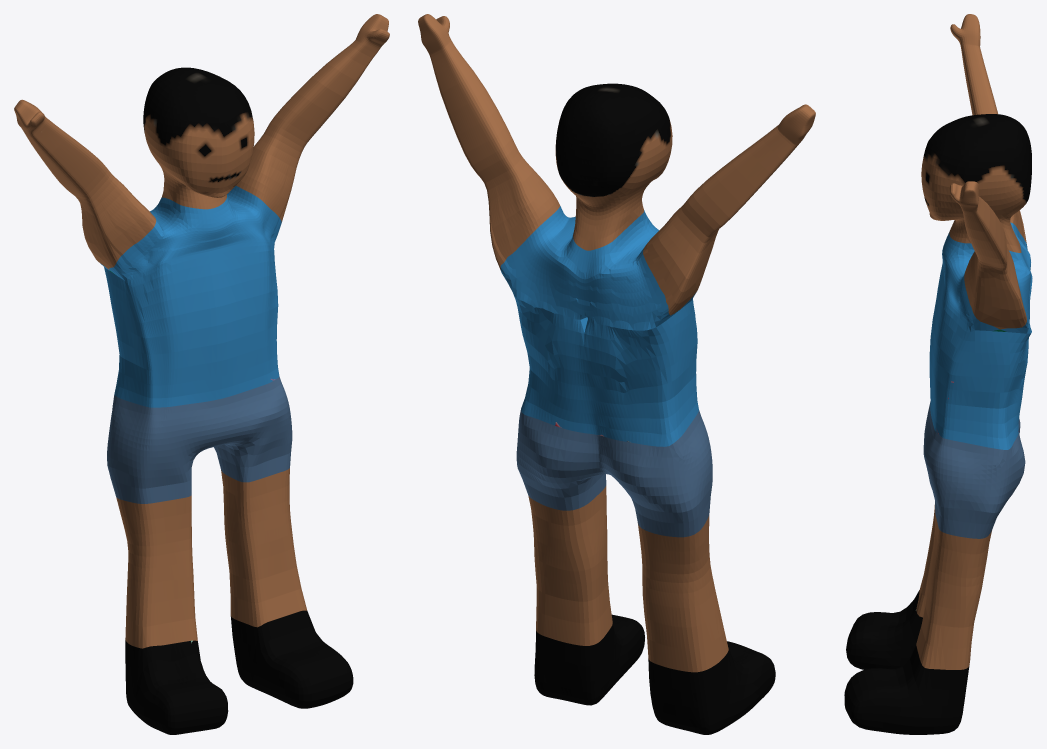
File: Espectador.obj
3 views of the same model, side by side, from view 1: azimuth 30°, elevation 25°; view 2: azimuth 150°, elevation 25°; view 3: azimuth 270°, elevation 25° (orthographic). The views are drawn at different scales.
Visible parts, largest first — view 1: Espectador; view 2: Espectador; view 3: Espectador.
Part boxes in pixels (<box>): Espectador: <box>14,14,389,734</box>; Espectador: <box>418,14,815,734</box>; Espectador: <box>844,14,1032,734</box>.
Bounding box in the file's own units: 1.13 × 1.82 × 0.5157.
Materials: 1 (1 with a texture image).
